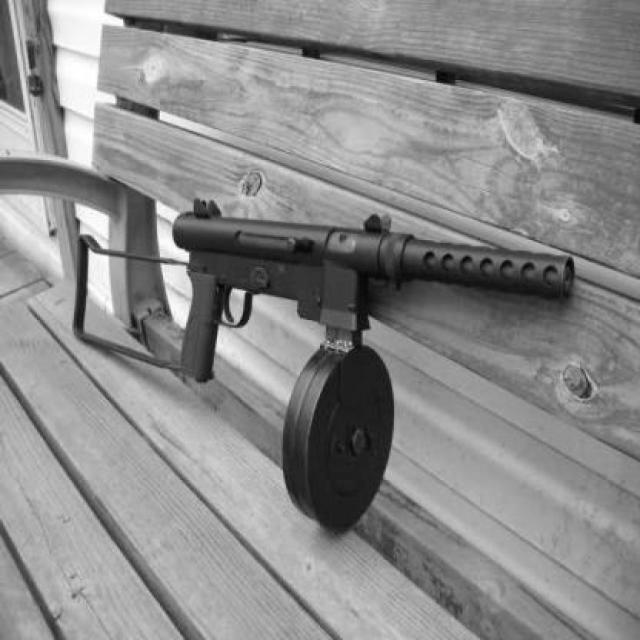weapon: (70, 196, 576, 538)
